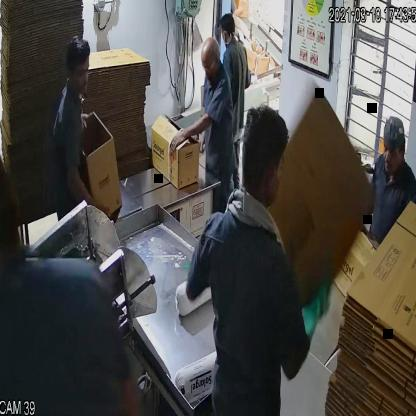no_glove: (60, 171, 115, 231), (168, 114, 218, 150)
